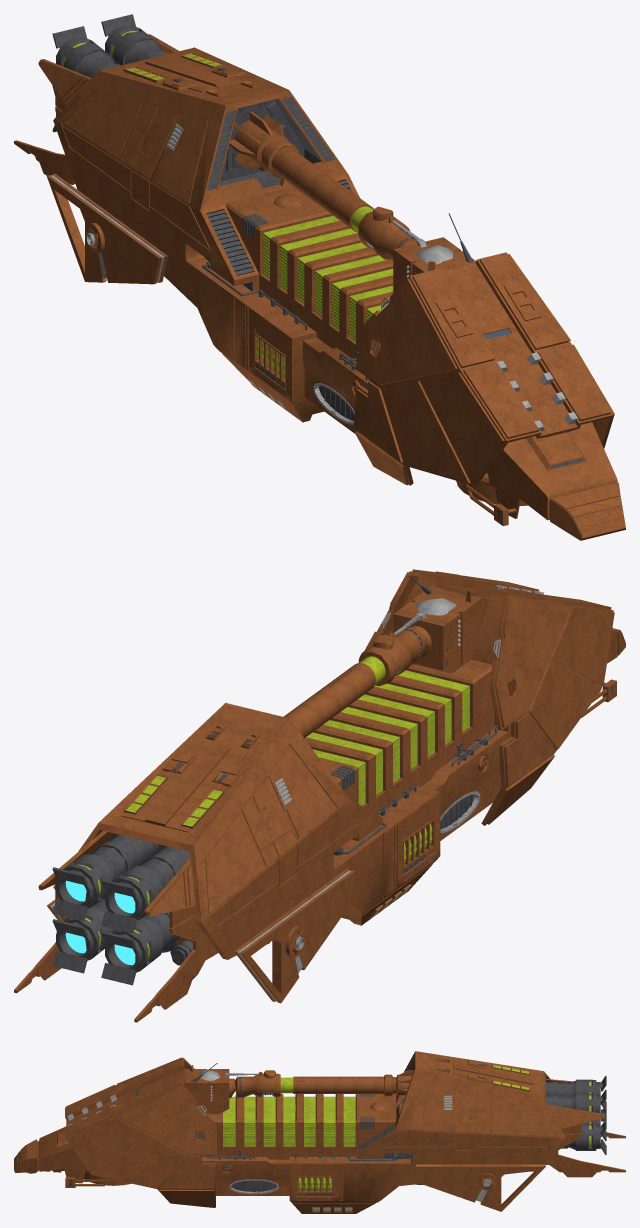
The model's file is sw_action_iv_transport.glb.
The picture shows the model from 3 angles, top to bottom: view 1: azimuth 30°, elevation 25°; view 2: azimuth 150°, elevation 25°; view 3: azimuth 270°, elevation 25°; orthographic projection. The views are drawn at different scales.
Visible parts, largest first — view 1: hull_mat_0, hull_mat_2, hull_mat_5, hull_mat_3; view 2: hull_mat_0, hull_mat_2, hull_mat_5, hull_mat_3, Engines_1; view 3: hull_mat_0, hull_mat_5, hull_mat_2, hull_mat_3.
Part boxes in pixels (left/top/right/bottom): hull_mat_0: left=14, top=33, right=625, bottom=540; hull_mat_2: left=52, top=14, right=584, bottom=519; hull_mat_5: left=62, top=31, right=393, bottom=378; hull_mat_3: left=51, top=123, right=578, bottom=431; hull_mat_0: left=14, top=569, right=625, bottom=1022; hull_mat_2: left=52, top=575, right=614, bottom=985; hull_mat_5: left=77, top=656, right=469, bottom=960; hull_mat_3: left=50, top=585, right=543, bottom=1001; Engines_1: left=65, top=880, right=135, bottom=965; hull_mat_0: left=14, top=1051, right=625, bottom=1213; hull_mat_5: left=223, top=1065, right=591, bottom=1191; hull_mat_2: left=48, top=1055, right=606, bottom=1200; hull_mat_3: left=67, top=1070, right=545, bottom=1211.
Size of the model in its own units: 0.456 by 0.5046 by 1.97.
8 materials, 4 textured.
